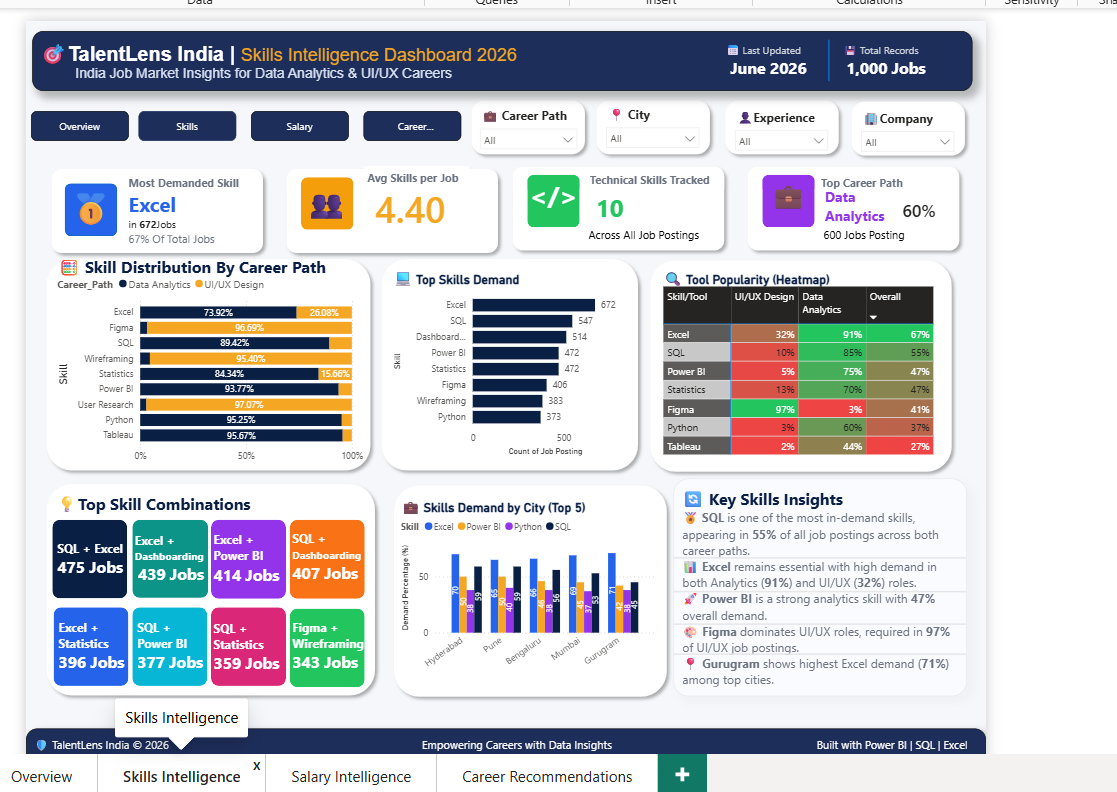

What the dashboard file says about the page in this screenshot:
{"tool":"powerbi","page":{"name":"Skills Intelligence","canvas":[1280,1000],"ordinal":1},"visuals":[{"type":"textbox","box":[7.5,12.5,1253.8,80],"z":0,"group":"g7"},{"type":"actionButton","box":[7,120,130,40],"z":0},{"type":"shape","box":[952.5,185,300,130],"z":0,"group":"g10"},{"type":"shape","box":[640,185.6,300,130],"z":0,"group":"g11"},{"type":"shape","box":[25.3,188.1,300,130],"z":0,"group":"g12"},{"type":"shape","box":[337.8,188.1,300,130],"z":0,"group":"g13"},{"type":"shape","box":[17.5,608.8,456,300],"z":0,"group":"g14"},{"type":"actionButton","box":[150,120,130,40],"z":1000},{"type":"shape","box":[980.1,204.9,70,70],"z":1000,"group":"g10"},{"type":"shape","box":[667.6,205.5,70,70],"z":1000,"group":"g11"},{"type":"shape","box":[365.4,208,70,70],"z":1000,"group":"g13"},{"type":"shape","box":[52.1,216.8,70,70],"z":1000,"group":"g12"},{"type":"shape","box":[34.9,666.3,100,105],"z":1000,"group":"g14"},{"type":"actionButton","box":[300,120,130,40],"z":2000},{"type":"shape","box":[140.5,665.9,101.4,104.3],"z":2000,"group":"g14"},{"type":"group","id":"g1","title":"Group 2","box":[585,96,169,90],"z":3000},{"type":"cardVisual","fields":{"Data":["SkillDemand.AvgSkillsPerJob"]},"box":[448,219.1,145.6,56.7],"z":3000,"group":"g13"},{"type":"shape","box":[245,665.3,100,105.4],"z":3000,"group":"g14"},{"type":"shape","box":[1013.1,24.7,114.3,55.6],"z":4000,"group":"g7"},{"type":"group","id":"g2","title":"Group 3","box":[751.1,95.9,169.2,90],"z":4000},{"type":"textbox","box":[449.8,193.5,140.9,37.3],"z":4000,"group":"g13"},{"type":"textbox","box":[746.9,197.8,173.3,35.6],"z":4000,"group":"g11"},{"type":"textbox","box":[132,199,169,31],"z":4000,"group":"g12"},{"type":"textbox","box":[1054.6,199.2,130,30.9],"z":4000,"group":"g10"},{"type":"shape","box":[351.2,665.3,100,105.4],"z":4000,"group":"g14"},{"type":"textbox","box":[928.2,24.7,132.8,57.8],"z":5000,"group":"g7"},{"type":"group","id":"g3","title":"Group 4","box":[924,96,169,90],"z":5000},{"type":"shape","box":[35.7,782.8,100,105],"z":5000,"group":"g14"},{"type":"textbox","box":[1084.9,24.7,125.2,57.8],"z":6000,"group":"g7"},{"type":"group","id":"g4","title":"Group 6","box":[25.3,188.1,300,130],"z":6000},{"type":"shape","box":[140.7,782.8,100,105],"z":6000,"group":"g14"},{"type":"group","id":"g5","title":"Group 6","box":[337.8,188.1,300,130],"z":7000},{"type":"shape","box":[245.7,782.8,100,105],"z":7000,"group":"g14"},{"type":"group","id":"g6","title":"Group 6","box":[640,185.6,300,130],"z":8000},{"type":"shape","box":[350.8,783.1,100,105],"z":8000,"group":"g14"},{"type":"textbox","box":[36.6,686.9,98.5,61.5],"z":9000,"group":"g14"},{"type":"textbox","box":[0,942.5,1280,47.5],"z":9000},{"type":"group","id":"g7","title":"Group 10","box":[7.5,12.5,1253.8,80],"z":10000},{"type":"textbox","box":[139,676.7,117.1,82.9],"z":10000,"group":"g14"},{"type":"textbox","box":[131.2,221.2,111.2,63.8],"z":11000},{"type":"textbox","box":[141.9,792.4,103.6,89.3],"z":11000,"group":"g14"},{"type":"textbox","box":[754.4,221.1,60,56.7],"z":12000},{"type":"textbox","box":[244.7,793.8,115.7,87.9],"z":12000,"group":"g14"},{"type":"shape","box":[585,96,169.2,90],"z":13000,"group":"g1"},{"type":"shape","box":[17.7,308.3,450,300],"z":13000},{"type":"textbox","box":[349,792.4,112.1,89.3],"z":13000,"group":"g14"},{"type":"slicer","title":"Career Path","fields":{"Values":["talentlens_1000.Career_Path"]},"box":[595.4,109.9,150,65.6],"z":14000,"group":"g1"},{"type":"shape","box":[464.3,308.3,360,300],"z":14000},{"type":"textbox","box":[36.9,792.4,103.6,89.3],"z":14000,"group":"g14"},{"type":"shape","box":[751.1,95.9,169.2,90],"z":15000,"group":"g2"},{"type":"shape","box":[823.2,309.4,420,300],"z":15000},{"type":"textbox","box":[244.7,675.9,107.1,83.6],"z":15000,"group":"g14"},{"type":"slicer","title":"Career Path","fields":{"Values":["talentlens_1000.Location"]},"box":[763.4,107.8,144.4,65.6],"z":16000,"group":"g2"},{"type":"group","id":"g8","title":"Group 6","box":[952.5,185,300,130],"z":16000},{"type":"textbox","box":[349,673.8,112.1,85.7],"z":16000,"group":"g14"},{"type":"shape","box":[924,96,169.2,90],"z":17000,"group":"g3"},{"type":"group","id":"g9","title":"Group 4","box":[1091.7,98.3,169.2,90],"z":17000},{"type":"shape","box":[1091.7,98.3,169.2,90],"z":17000,"group":"g9"},{"type":"textbox","box":[34.5,623.3,292,42],"z":17000,"group":"g14"},{"type":"textbox","box":[744.4,270.5,174.4,33.3],"z":17001,"group":"g11"},{"type":"textbox","box":[1057.5,270.6,175.6,34.4],"z":17001,"group":"g10"},{"type":"textbox","box":[131.4,275.5,149.5,30.4],"z":17001,"group":"g12"},{"type":"slicer","title":"Career Path","fields":{"Values":["talentlens_1000.Experience"]},"box":[936.2,110.8,144.4,65.6],"z":18000,"group":"g3"},{"type":"slicer","title":"Career Path","fields":{"Values":["talentlens_1000.Company"]},"box":[1103.9,113.1,144.4,65.6],"z":18000,"group":"g9"},{"type":"textbox","box":[1060,216.7,107.8,61.1],"z":18000},{"type":"cardVisual","fields":{"Data":["SkillDemand.TopCareerPct"]},"box":[1151.4,225.7,80,52.9],"z":19000},{"type":"textbox","box":[1047.3,224.8,196.2,46.2],"z":19001,"group":"g8"},{"type":"clusteredBarChart","title":"💻 Top Skills Demand","fields":{"Category":["SkillsSummary.Skill"],"Y":["Sum(SkillsSummary.JobCount)"]},"box":[485.4,329.4,320,254.4],"z":20000},{"type":"hundredPercentStackedBarChart","title":"Skills Distribution by Career Path","fields":{"Category":["SkillsByCareer.Skill"],"Series":["SkillsByCareer.Career_Path"],"Y":["Sum(SkillsByCareer.Percentage)"]},"box":[36,330,418,268],"z":21000},{"type":"group","id":"g10","title":"Group 7","box":[952.5,185,300,130],"z":21001,"group":"g8"},{"type":"group","id":"g11","title":"Group 7","box":[640,185.6,300,130],"z":21001,"group":"g6"},{"type":"group","id":"g12","title":"Group 7","box":[25.3,188.1,300,130],"z":21001,"group":"g4"},{"type":"group","id":"g13","title":"Group 7","box":[337.8,188.1,300,130],"z":21001,"group":"g5"},{"type":"pivotTable","title":"🔍 Tool Popularity (Heatmap)","fields":{"Rows":["ToolPopularity.Skill_Tool"],"Values":["Sum(ToolPopularity.UI/UX Design)","Sum(ToolPopularity.Data Analytics)","Sum(ToolPopularity.Overall)"]},"box":[844.4,330,377.8,254.4],"z":22000},{"type":"textbox","box":[863,610,391,290],"z":23000},{"type":"shape","box":[481.7,610,381.7,300],"z":24000},{"type":"clusteredColumnChart","title":"💼 Skills Demand by City (Top 5)","fields":{"Category":["SkillsByCity.City"],"Series":["SkillsByCity.Skill"],"Y":["Sum(SkillsByCity.Percentage)"]},"box":[495.6,635.6,348.9,247.8],"z":25000},{"type":"group","id":"g14","title":"Group 1","box":[17.5,608.8,456,300],"z":26000},{"type":"textbox","box":[37.5,308.8,412.5,50],"z":27000},{"type":"actionButton","box":[450,120,130,40],"z":28000},{"type":"shape","box":[863,827,390,35],"z":29000},{"type":"shape","box":[863,792,390,25],"z":30000},{"type":"shape","box":[863,749,390,25],"z":31000},{"type":"shape","box":[863,704,390,25],"z":32000}]}

Visuals, with their boxes on the page's 1280x1000 design canvas (x1, y1, x2, y2). These are canvas units, not pixel positions in the 1117x792 screenshot, which may show the page scaled, cropped or inside an application window:
textbox: l=8, t=12, r=1261, b=92
actionButton: l=7, t=120, r=137, b=160
shape: l=952, t=185, r=1252, b=315
shape: l=640, t=186, r=940, b=316
shape: l=25, t=188, r=325, b=318
shape: l=338, t=188, r=638, b=318
shape: l=18, t=609, r=474, b=909
actionButton: l=150, t=120, r=280, b=160
shape: l=980, t=205, r=1050, b=275
shape: l=668, t=206, r=738, b=276
shape: l=365, t=208, r=435, b=278
shape: l=52, t=217, r=122, b=287
shape: l=35, t=666, r=135, b=771
actionButton: l=300, t=120, r=430, b=160
shape: l=140, t=666, r=242, b=770
"Group 2" group: l=585, t=96, r=754, b=186
cardVisual - SkillDemand.AvgSkillsPerJob: l=448, t=219, r=594, b=276
shape: l=245, t=665, r=345, b=771
shape: l=1013, t=25, r=1127, b=80
"Group 3" group: l=751, t=96, r=920, b=186
textbox: l=450, t=194, r=591, b=231
textbox: l=747, t=198, r=920, b=233
textbox: l=132, t=199, r=301, b=230
textbox: l=1055, t=199, r=1185, b=230
shape: l=351, t=665, r=451, b=771
textbox: l=928, t=25, r=1061, b=82
"Group 4" group: l=924, t=96, r=1093, b=186
shape: l=36, t=783, r=136, b=888
textbox: l=1085, t=25, r=1210, b=82
"Group 6" group: l=25, t=188, r=325, b=318
shape: l=141, t=783, r=241, b=888
"Group 6" group: l=338, t=188, r=638, b=318
shape: l=246, t=783, r=346, b=888
"Group 6" group: l=640, t=186, r=940, b=316
shape: l=351, t=783, r=451, b=888
textbox: l=37, t=687, r=135, b=748
textbox: l=0, t=942, r=1280, b=990
"Group 10" group: l=8, t=12, r=1261, b=92
textbox: l=139, t=677, r=256, b=760
textbox: l=131, t=221, r=242, b=285
textbox: l=142, t=792, r=246, b=882
textbox: l=754, t=221, r=814, b=278
textbox: l=245, t=794, r=360, b=882
shape: l=585, t=96, r=754, b=186
shape: l=18, t=308, r=468, b=608
textbox: l=349, t=792, r=461, b=882
"Career Path" slicer: l=595, t=110, r=745, b=176
shape: l=464, t=308, r=824, b=608
textbox: l=37, t=792, r=140, b=882
shape: l=751, t=96, r=920, b=186
shape: l=823, t=309, r=1243, b=609
textbox: l=245, t=676, r=352, b=760
"Career Path" slicer: l=763, t=108, r=908, b=173
"Group 6" group: l=952, t=185, r=1252, b=315
textbox: l=349, t=674, r=461, b=760
shape: l=924, t=96, r=1093, b=186
"Group 4" group: l=1092, t=98, r=1261, b=188
shape: l=1092, t=98, r=1261, b=188
textbox: l=34, t=623, r=326, b=665
textbox: l=744, t=270, r=919, b=304
textbox: l=1058, t=271, r=1233, b=305
textbox: l=131, t=276, r=281, b=306
"Career Path" slicer: l=936, t=111, r=1081, b=176
"Career Path" slicer: l=1104, t=113, r=1248, b=179
textbox: l=1060, t=217, r=1168, b=278
cardVisual - SkillDemand.TopCareerPct: l=1151, t=226, r=1231, b=279
textbox: l=1047, t=225, r=1244, b=271
"💻 Top Skills Demand" clusteredBarChart: l=485, t=329, r=805, b=584
"Skills Distribution by Career Path" hundredPercentStackedBarChart: l=36, t=330, r=454, b=598
"Group 7" group: l=952, t=185, r=1252, b=315
"Group 7" group: l=640, t=186, r=940, b=316
"Group 7" group: l=25, t=188, r=325, b=318
"Group 7" group: l=338, t=188, r=638, b=318
"🔍 Tool Popularity (Heatmap)" pivotTable: l=844, t=330, r=1222, b=584
textbox: l=863, t=610, r=1254, b=900
shape: l=482, t=610, r=863, b=910
"💼 Skills Demand by City (Top 5)" clusteredColumnChart: l=496, t=636, r=844, b=883
"Group 1" group: l=18, t=609, r=474, b=909
textbox: l=38, t=309, r=450, b=359
actionButton: l=450, t=120, r=580, b=160
shape: l=863, t=827, r=1253, b=862
shape: l=863, t=792, r=1253, b=817
shape: l=863, t=749, r=1253, b=774
shape: l=863, t=704, r=1253, b=729
